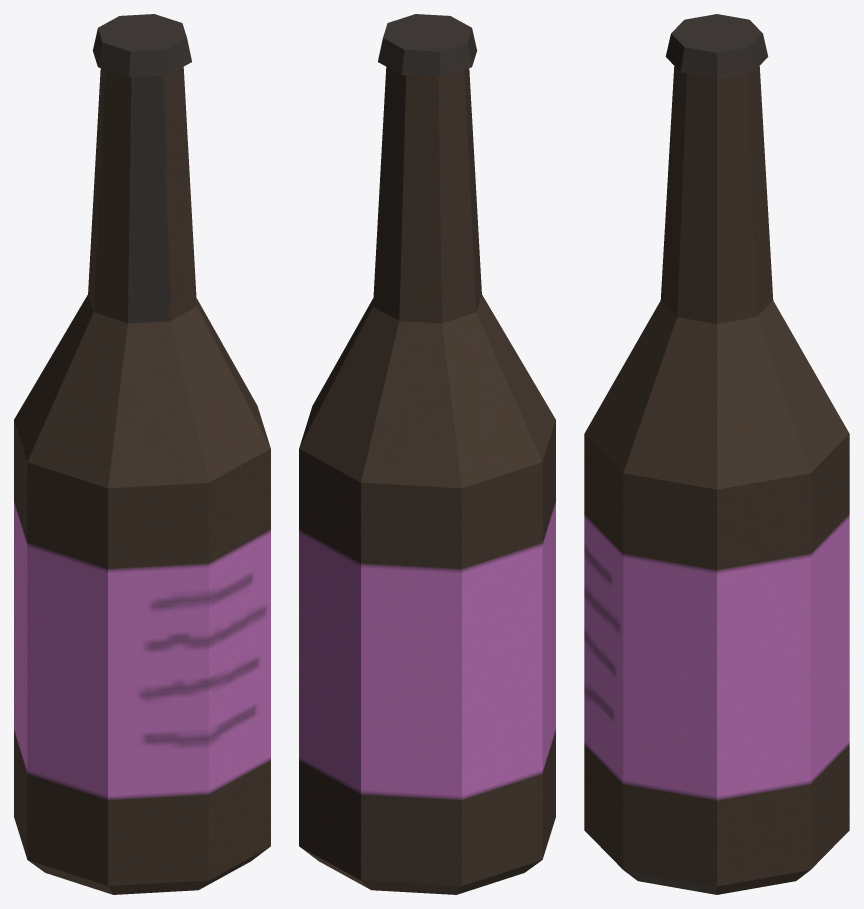
Rendered from SM_Food_06.fbx.
The picture shows the model from 3 angles, left to right: view 1: azimuth 30°, elevation 25°; view 2: azimuth 150°, elevation 25°; view 3: azimuth 270°, elevation 25°; orthographic projection.
Parts seen in each view (by area): view 1: SM_Food_06; view 2: SM_Food_06; view 3: SM_Food_06.
Part boxes in pixels (x1,y1,x2,y2): SM_Food_06: (14,14,270,894); SM_Food_06: (299,14,555,894); SM_Food_06: (584,14,849,894).
Size of the model in its own units: 8.05 by 27.28 by 8.05.
